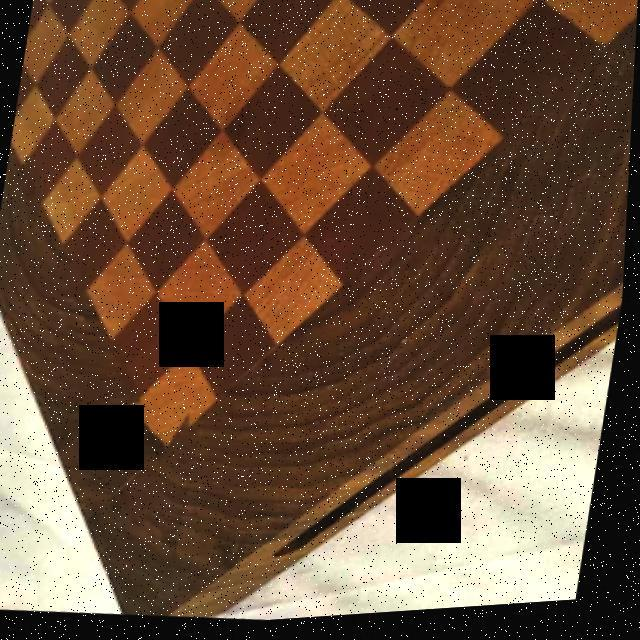chess-table-corners: (120, 386, 208, 476)
